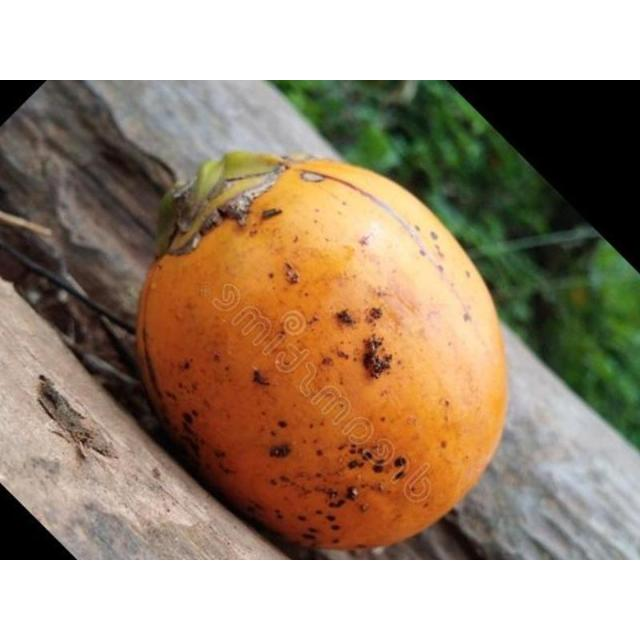good: (133, 150, 510, 554)
